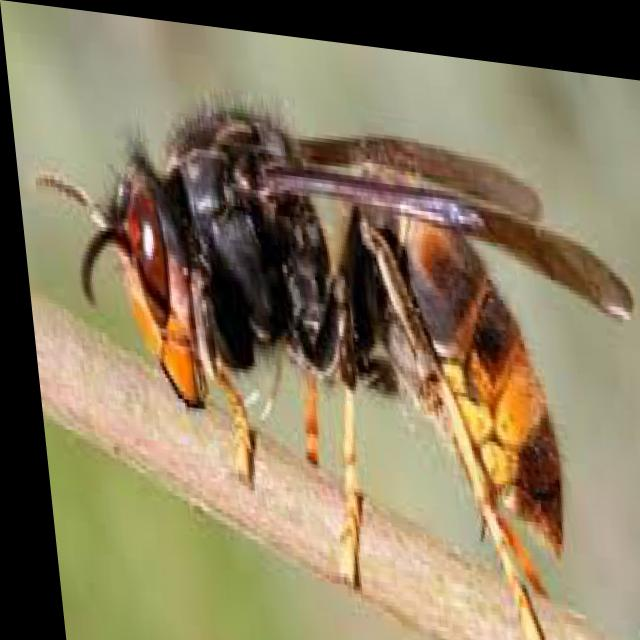Vespa Orientalis: (8, 23, 639, 639)
